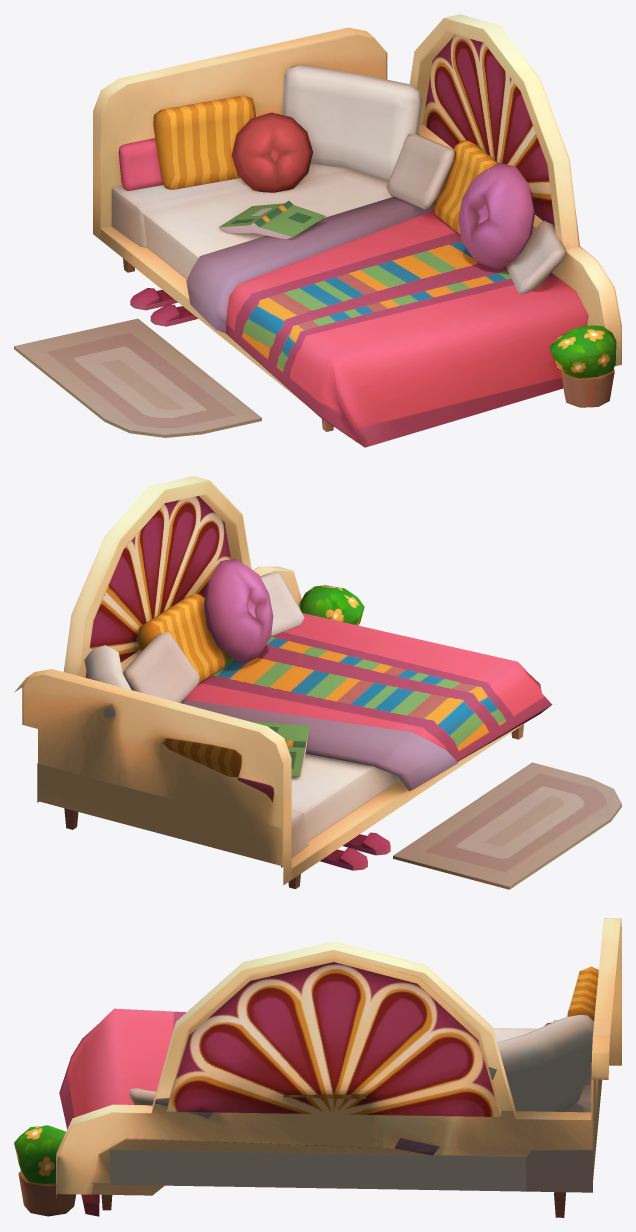
The model's file is krevet.gltf.
3 renders of one model, top to bottom at view 1: azimuth 30°, elevation 25°; view 2: azimuth 150°, elevation 25°; view 3: azimuth 270°, elevation 25°, orthographic. The views are drawn at different scales.
Parts seen in each view (by area): view 1: Bed_Bed1_0; view 2: Bed_Bed1_0; view 3: Bed_Bed1_0.
Part boxes in pixels (<box>): Bed_Bed1_0: <box>14,14,621,447</box>; Bed_Bed1_0: <box>14,476,621,889</box>; Bed_Bed1_0: <box>14,918,621,1217</box>.
Size of the model in its own units: 3.95 by 2.25 by 4.43.
1 material, 1 textured.
